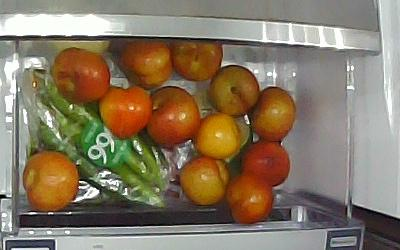prune: (20, 150, 79, 211), (147, 85, 201, 146), (53, 48, 110, 103), (99, 84, 152, 139), (114, 39, 173, 88), (208, 65, 260, 116), (179, 156, 230, 207), (252, 87, 296, 143), (227, 175, 275, 225), (193, 114, 243, 160), (242, 142, 291, 187), (173, 39, 223, 83)
